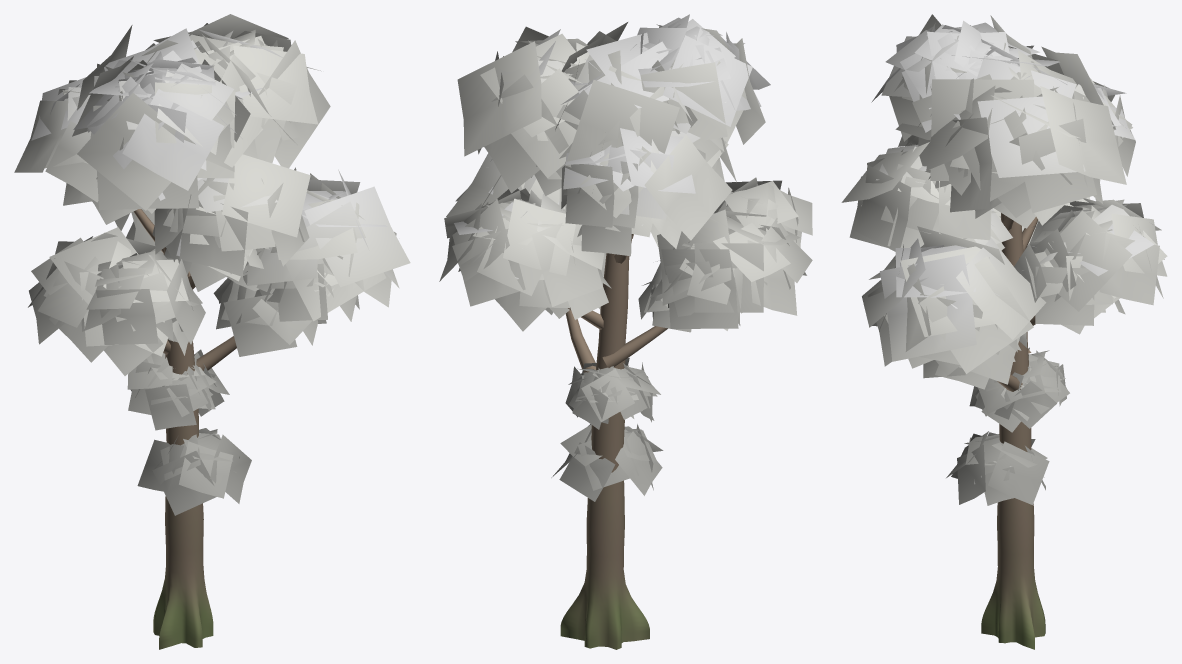
File: jungleB_lod0.glb
3 renders of one model, left to right at view 1: azimuth 30°, elevation 25°; view 2: azimuth 150°, elevation 25°; view 3: azimuth 270°, elevation 25°, orthographic. The views are drawn at different scales.
Visible parts, largest first — view 1: jungleB; view 2: jungleB; view 3: jungleB.
Part boxes in pixels (x1=…): jungleB: x1=14, y1=14, x2=410, y2=649; jungleB: x1=439, y1=14, x2=812, y2=649; jungleB: x1=841, y1=14, x2=1167, y2=649.
Size of the model in its own units: 22.89 by 38.92 by 19.61.
